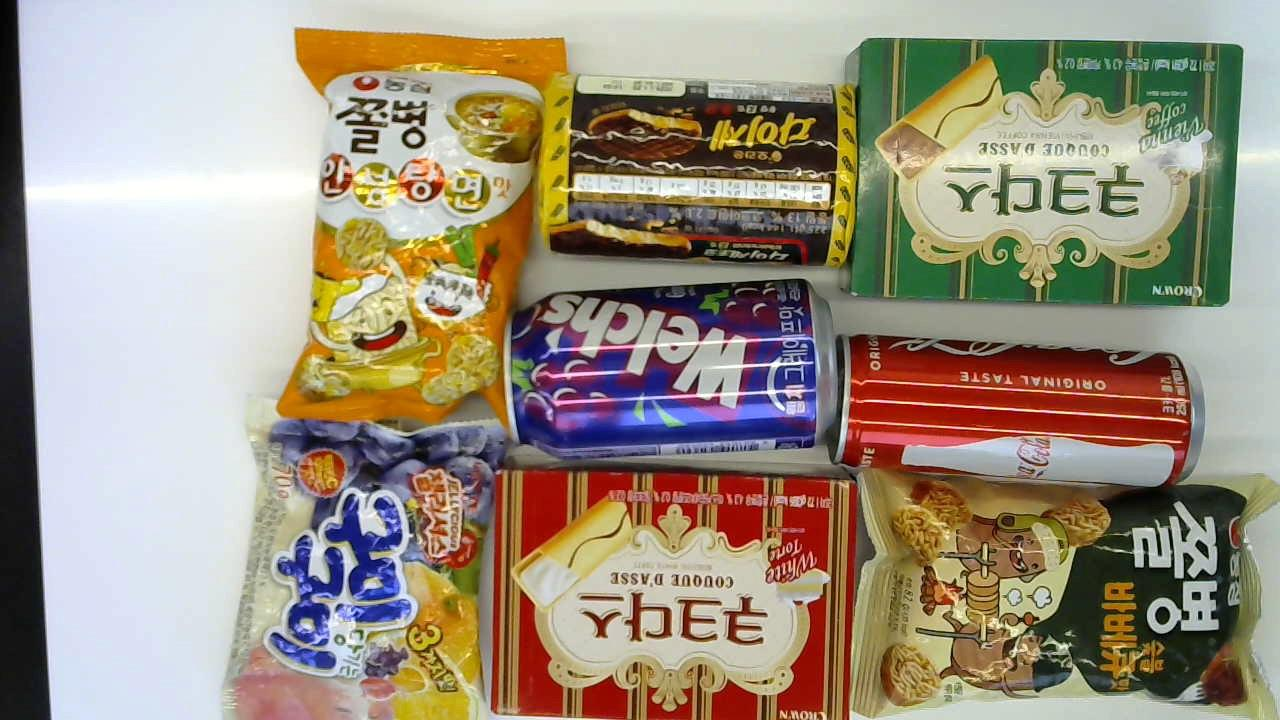coke: (827, 328, 1222, 480)
couque_coffee: (833, 34, 1246, 316)
couque_white: (495, 469, 855, 720), (238, 422, 482, 720)
diget_choco: (536, 71, 864, 268)
gumi_gumi: (238, 422, 482, 720)
jjolbyung_noodle: (270, 14, 539, 446)
jjolbyung_ori: (843, 457, 1274, 714)
welchs: (506, 268, 829, 460)
